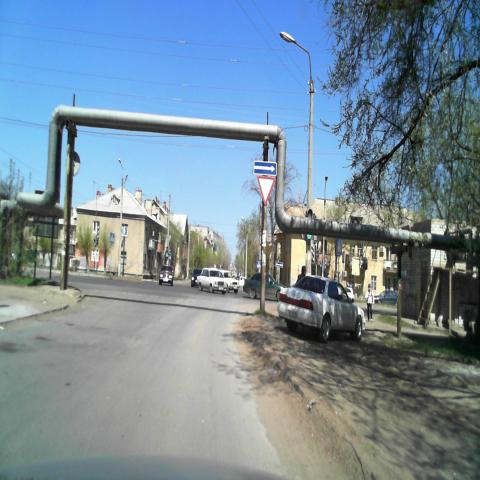5_7_1: (253, 160, 277, 176)
